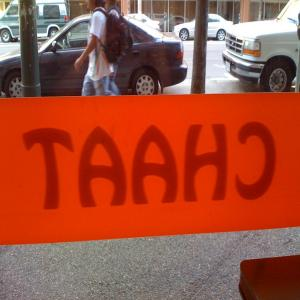Vehicle-registration-plate: (226, 62, 231, 72)
